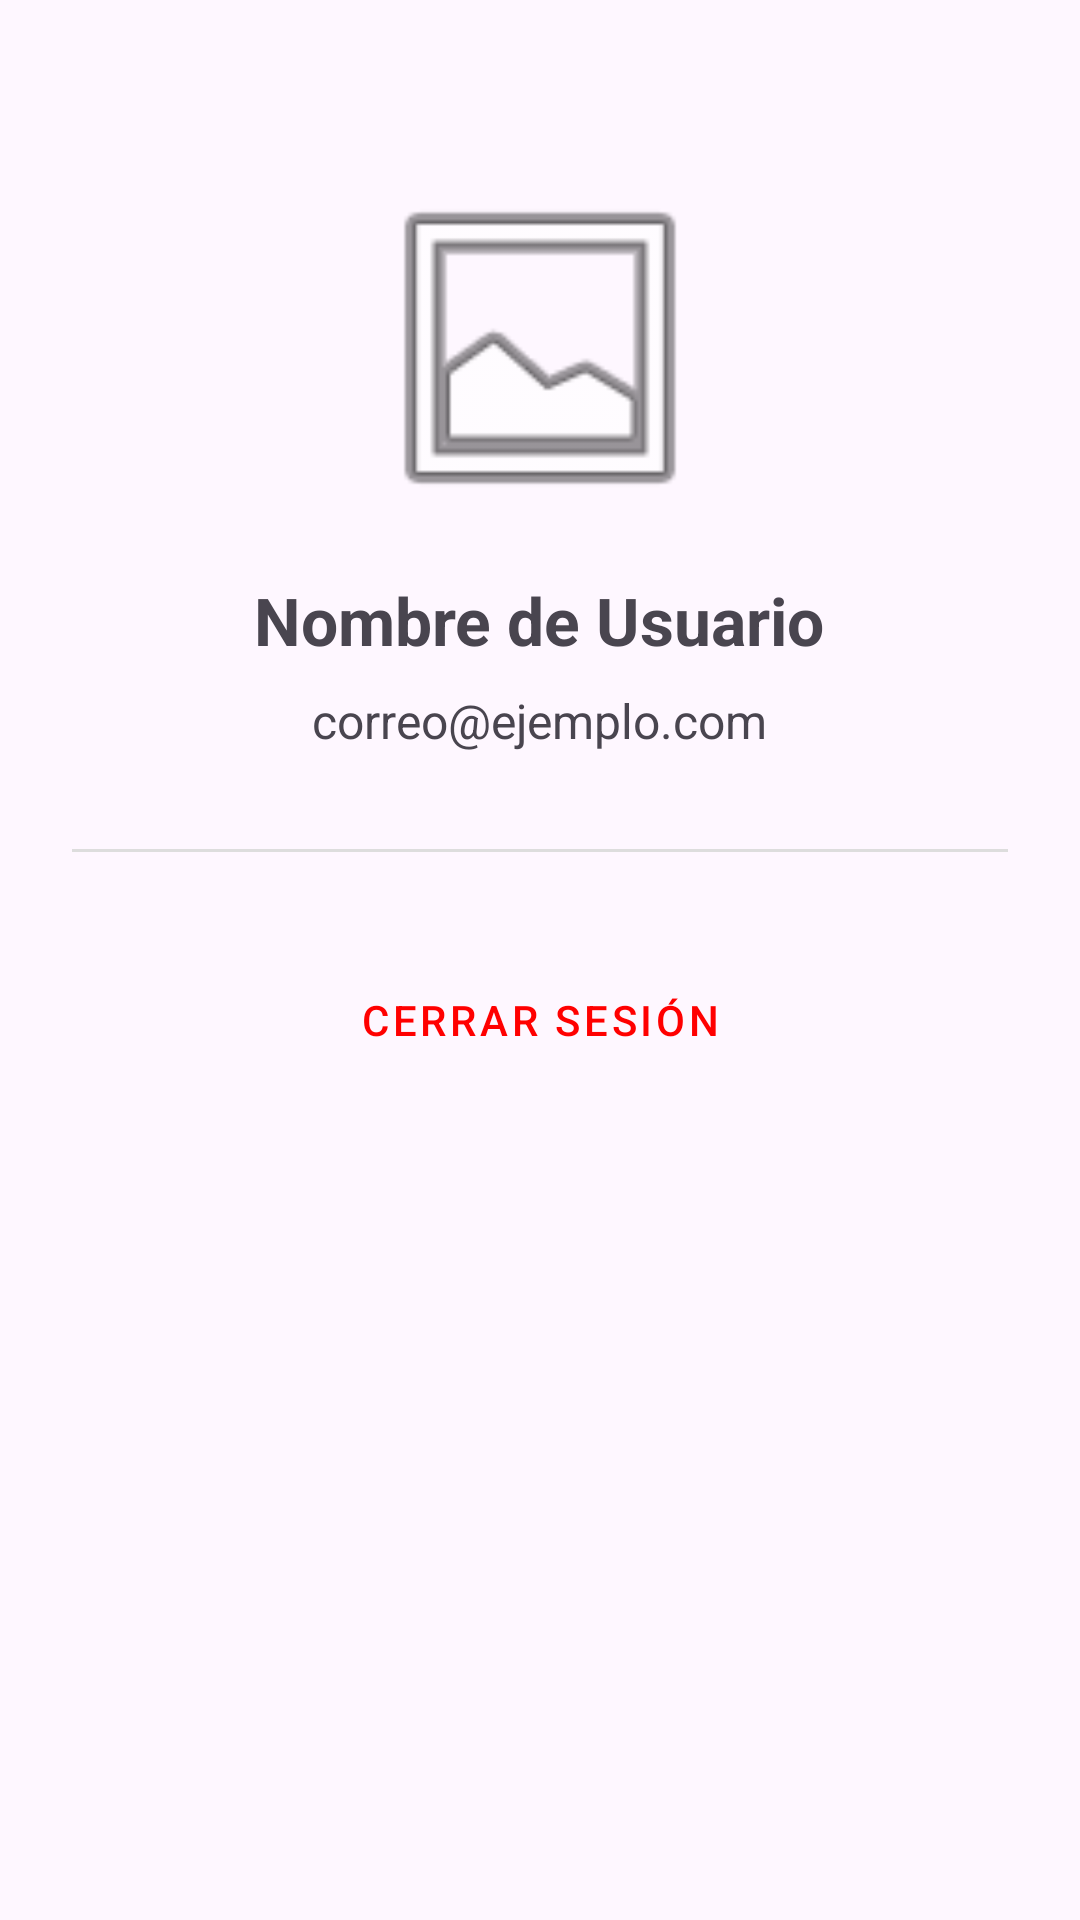

Icon click points for this 1080 x 1920 phone screenshot, format (x=x, y=y):
gallery: (x=540, y=348)
